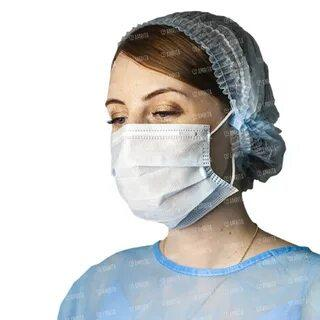hairnet: (115, 7, 312, 202)
mask: (101, 109, 237, 230)
